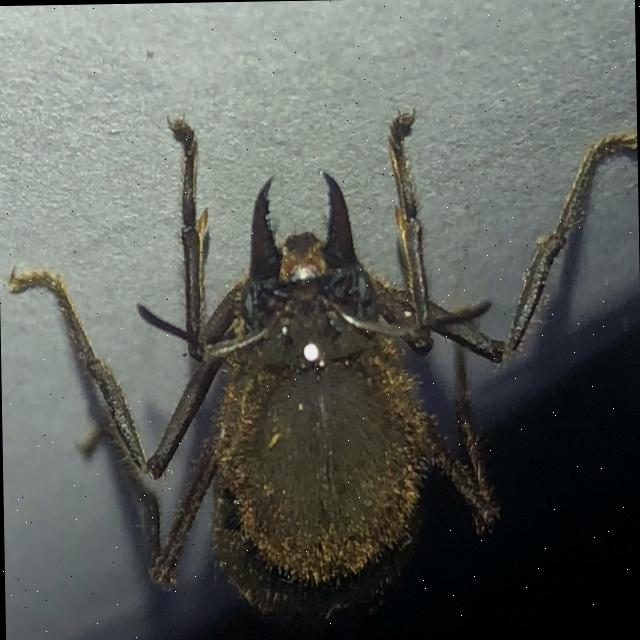Alive-Female-Dealate: (3, 98, 640, 635)
